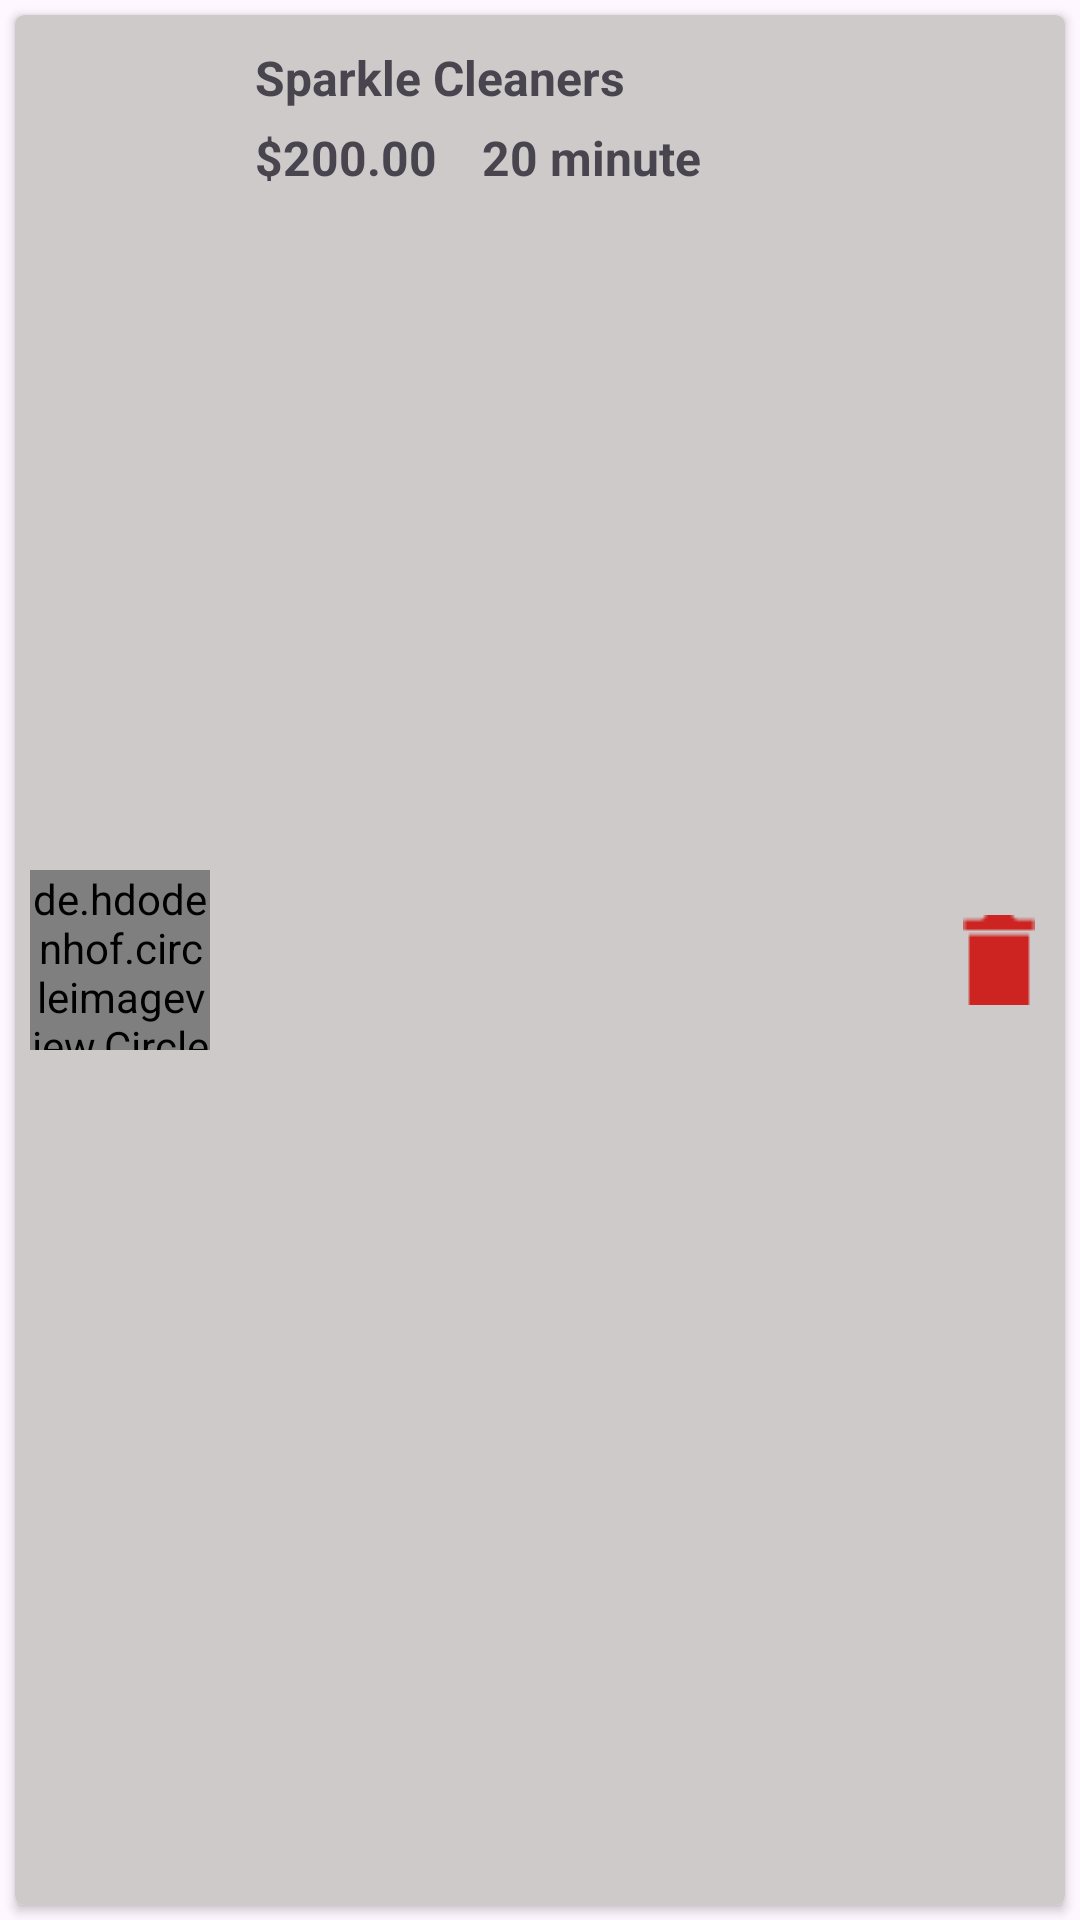

Named icons in this screenshot (1080px×1920px) and their bounding boxes, (x1, y1, x2, y2):
delete: (963, 915, 1035, 1005)
